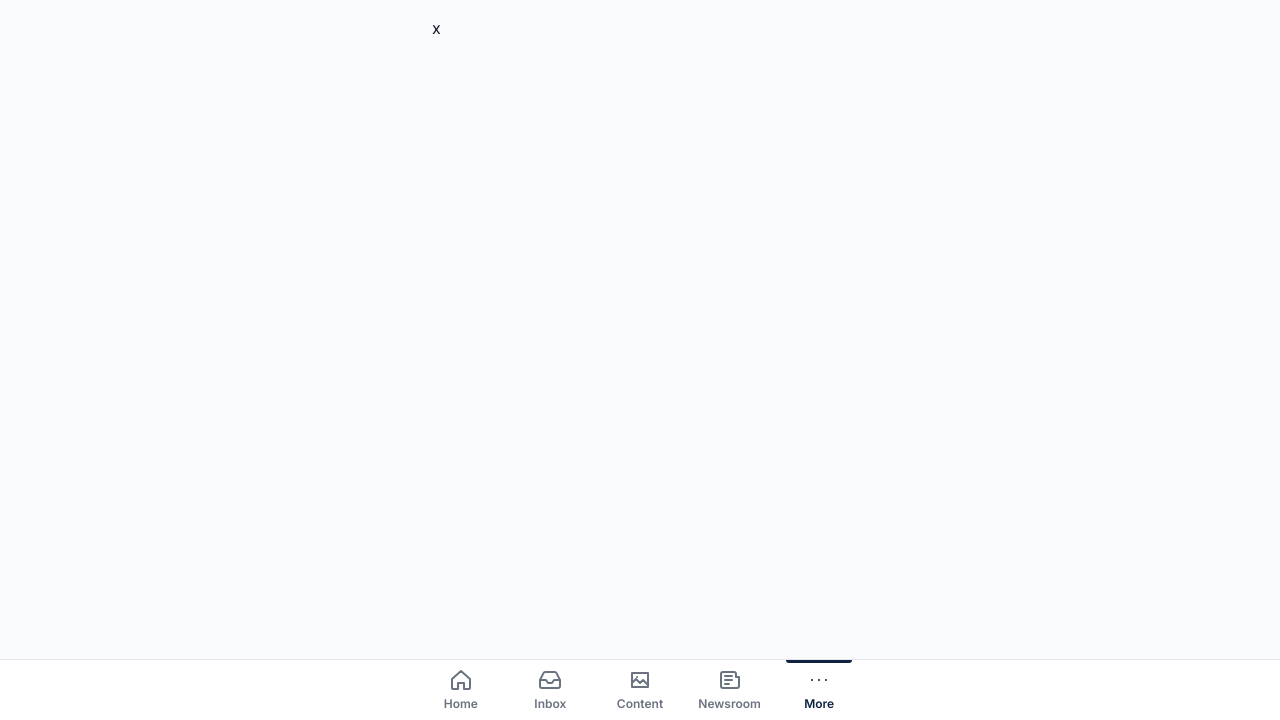
it: AppShell tabs › More opens a sheet with the rest; a page inside More lights up the More tab
Click the button "More" at [819, 690], box [774,660,864,719]
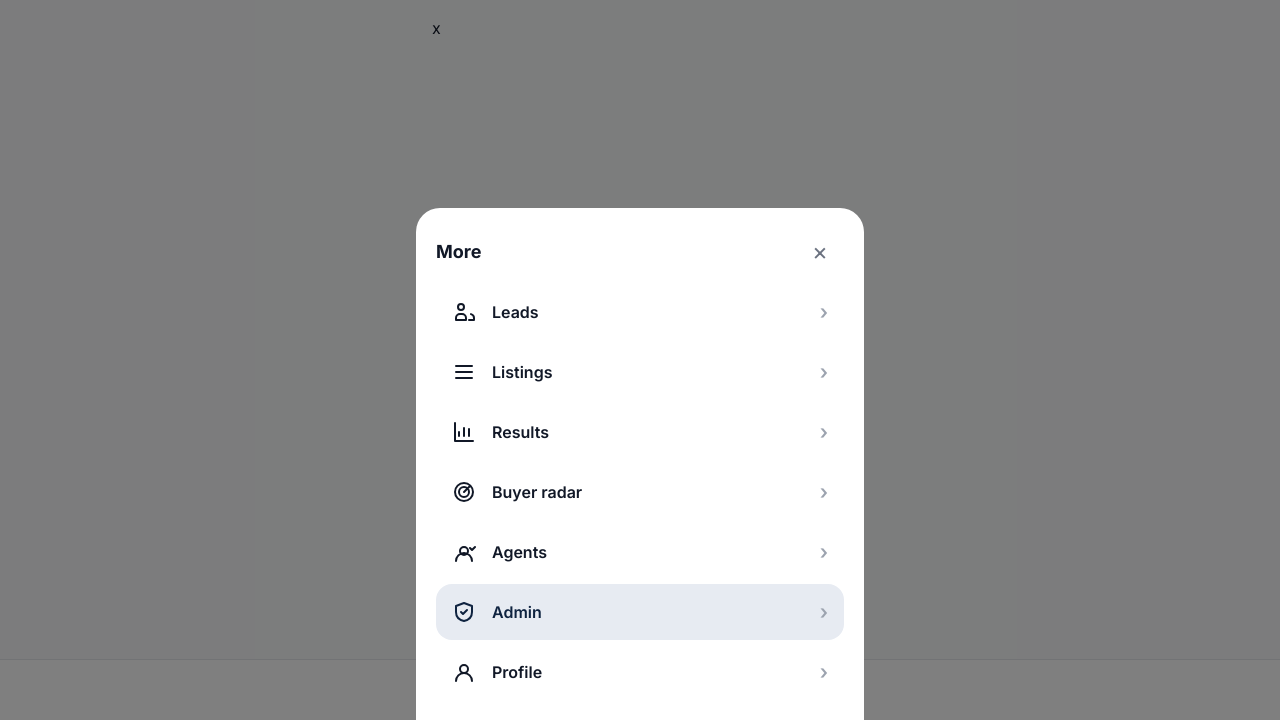
Click the button named "Close" at [820, 252], box [796,228,844,276]
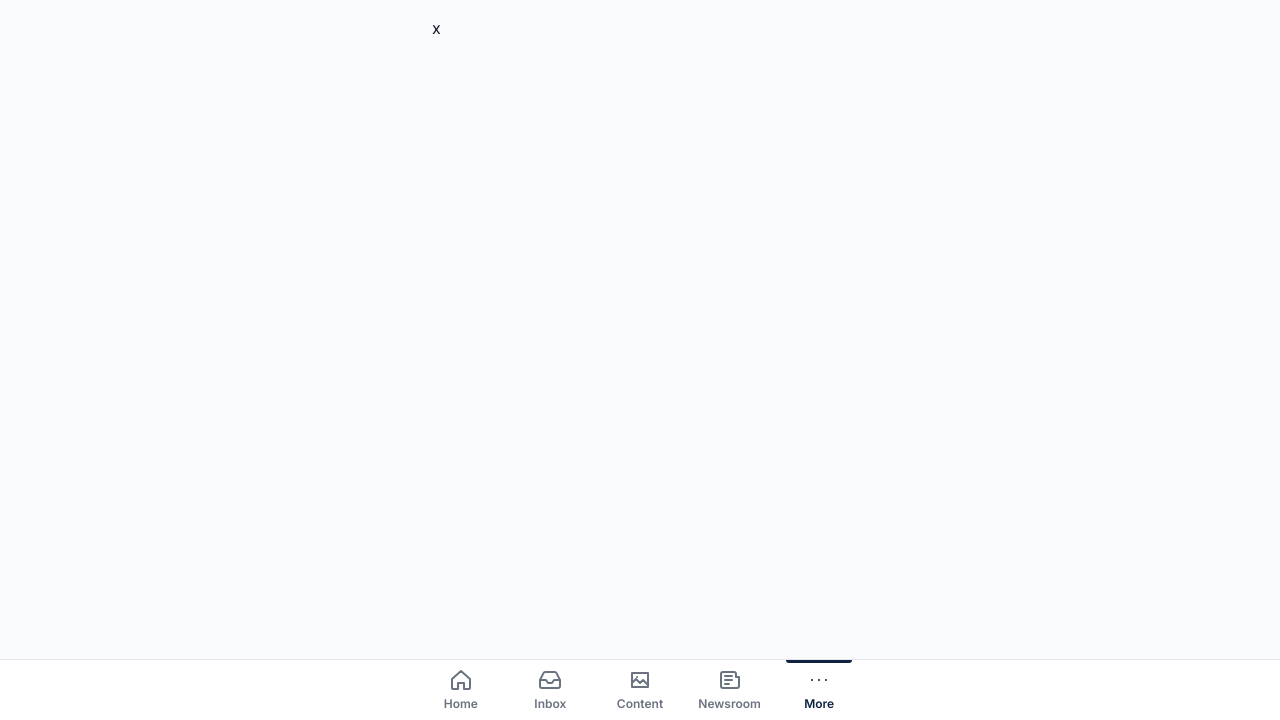
Result: the dialog is gone
